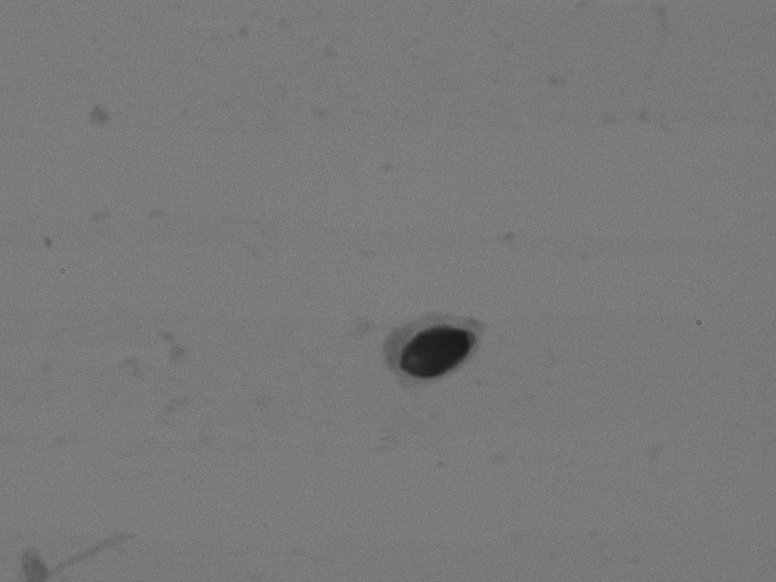Abnormal: (322, 254, 524, 430)
